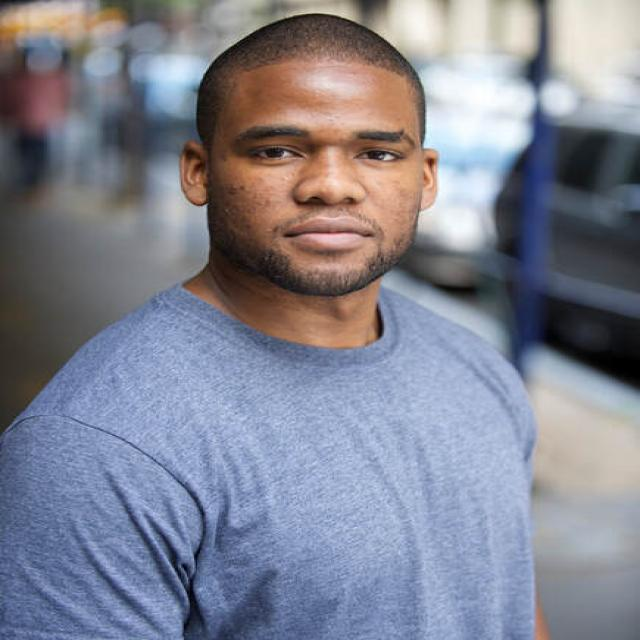nothing: (157, 0, 470, 150)
